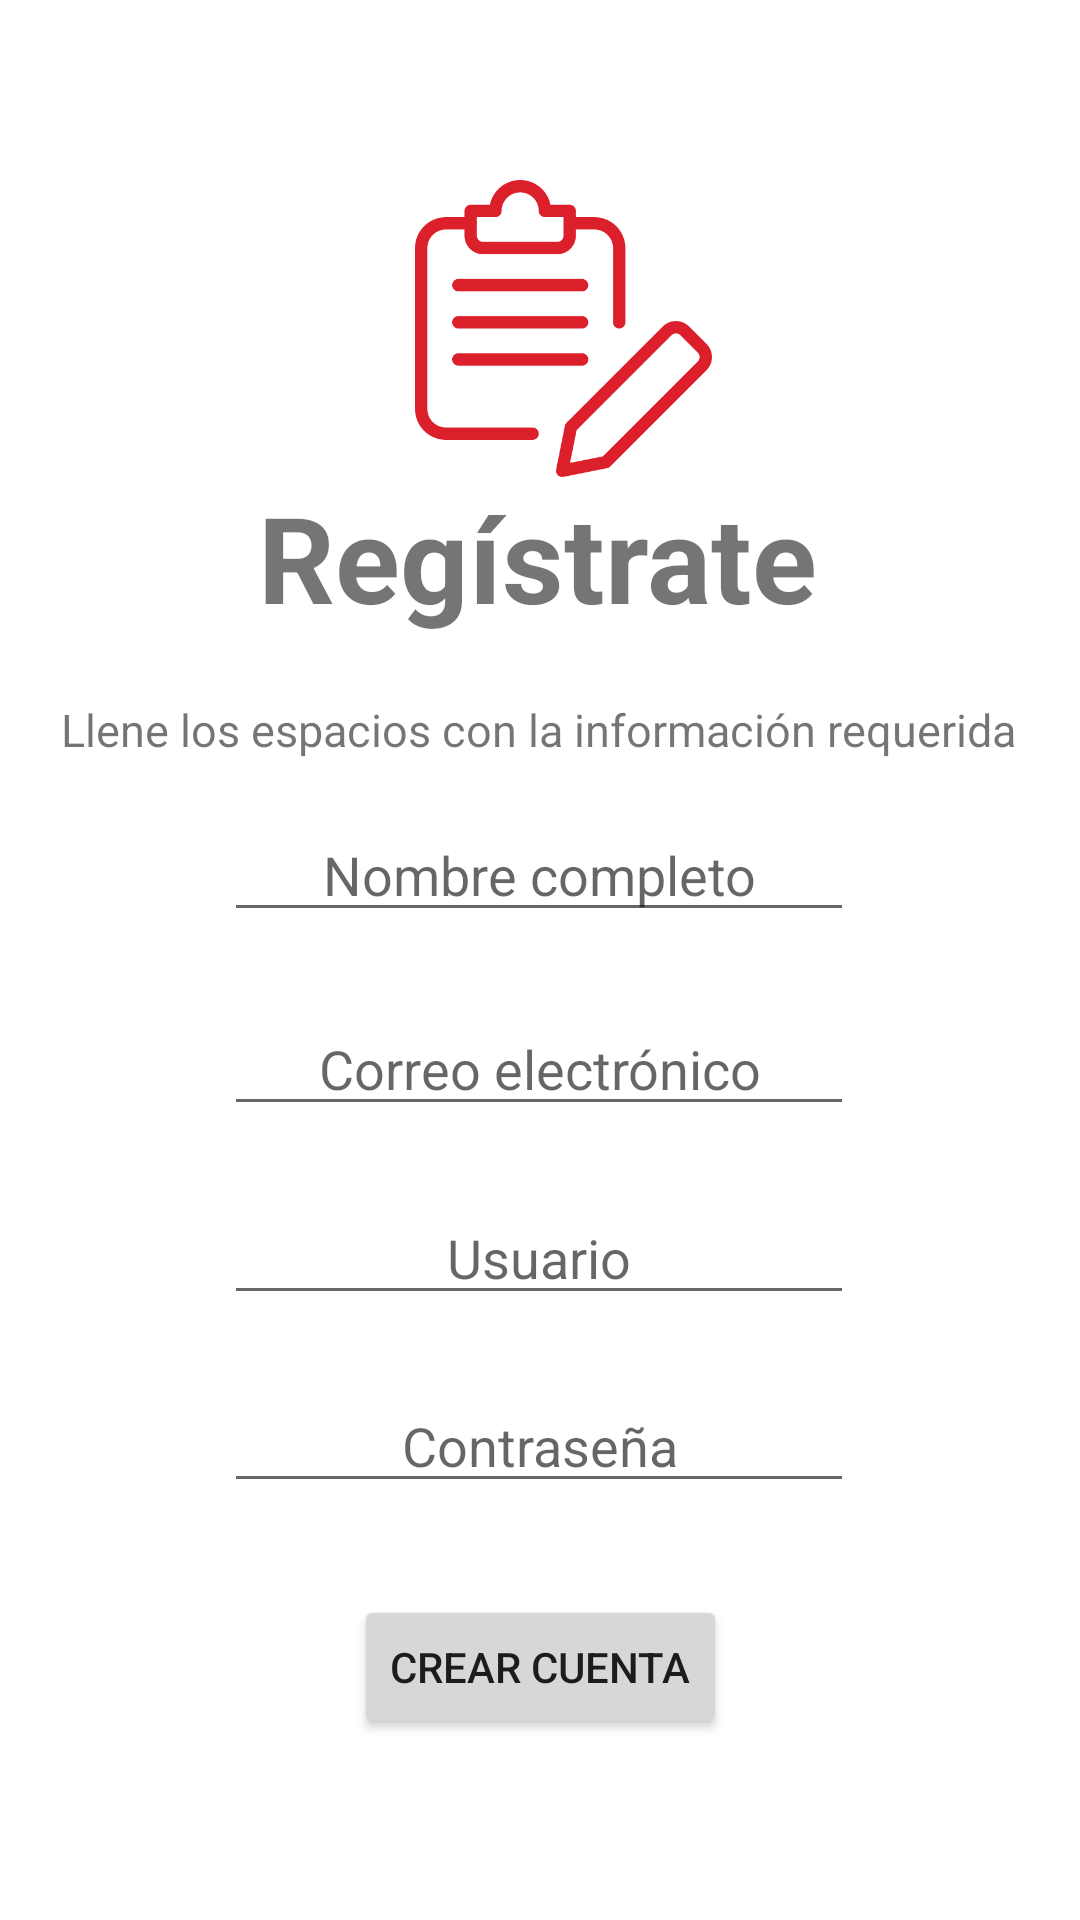

Where to tap for icons on this 1080 × 1920 app screen, as [x,y]:
editar: [563,328]
